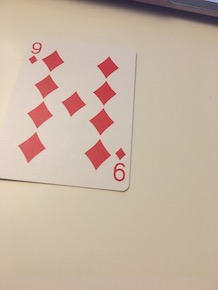NineOfDiamonds: (1, 34, 141, 194)
